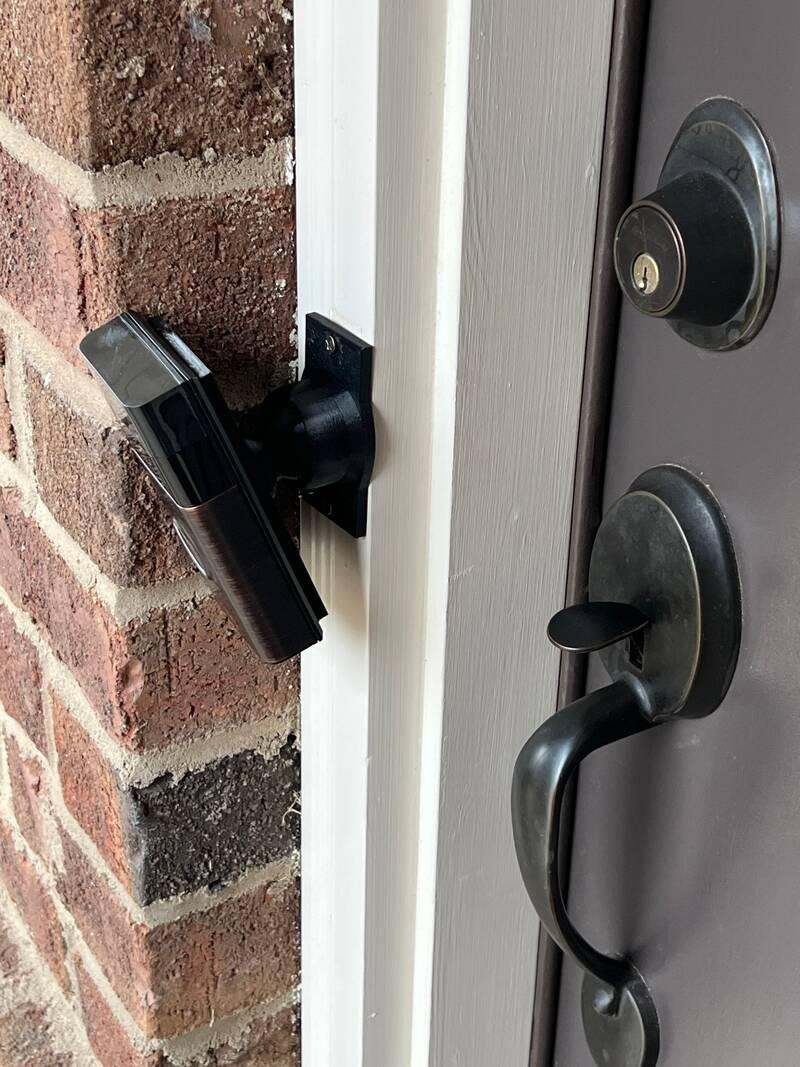doorbell: (56, 352, 216, 724)
